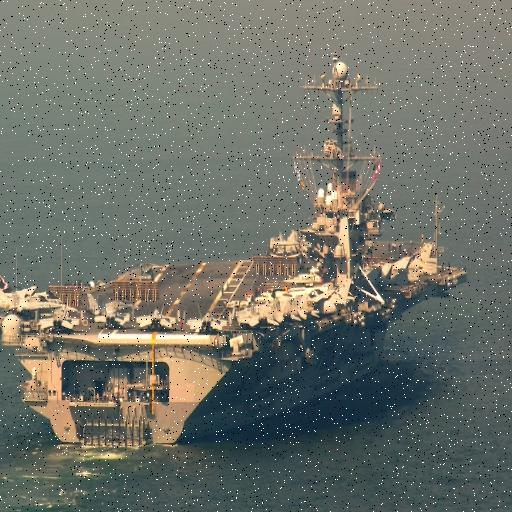Portanaves: (1, 51, 472, 455)
